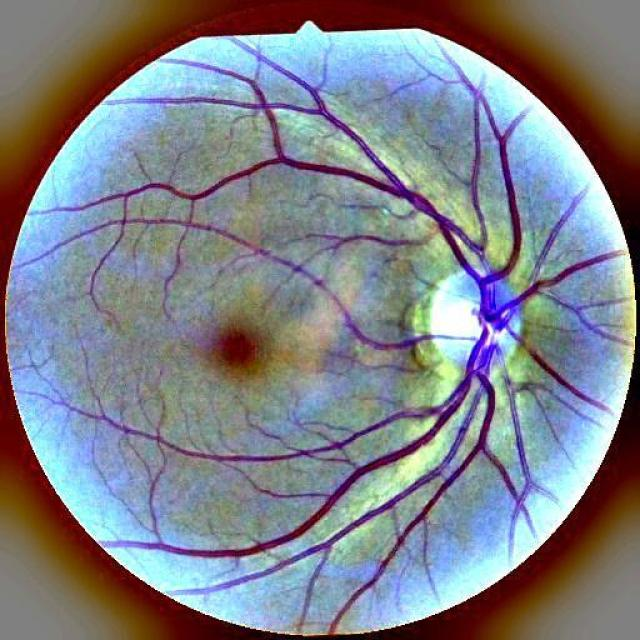Macula: (192, 308, 275, 389)
Nerves: (102, 59, 620, 632)
Optic Disk: (380, 245, 552, 411)
